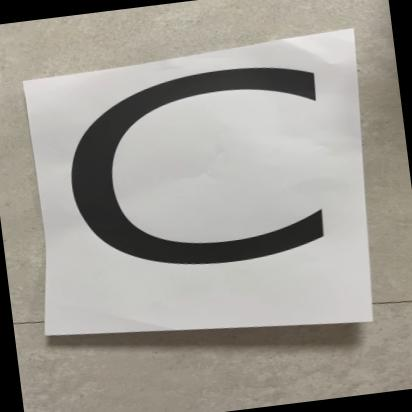seat: (34, 41, 364, 338)
